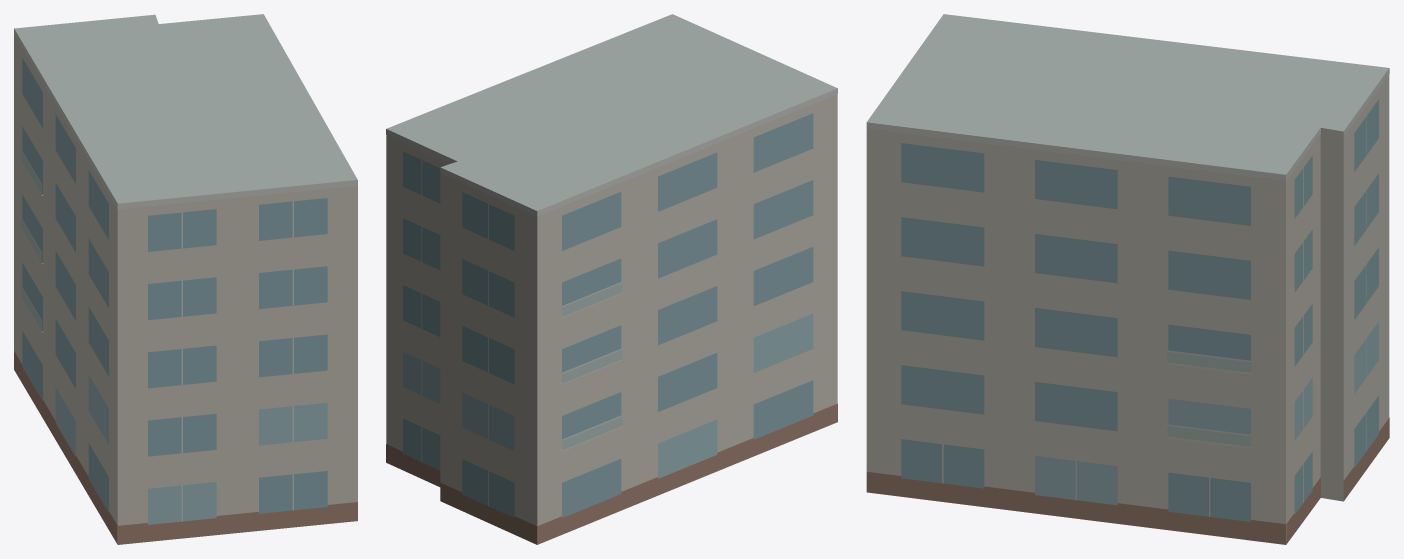
Rendered from survey-upis-32793700.glb.
3 renders of one model, left to right at view 1: azimuth 30°, elevation 25°; view 2: azimuth 150°, elevation 25°; view 3: azimuth 270°, elevation 25°, orthographic. The views are drawn at different scales.
Visible parts, largest first — view 1: survey-upis-32793700.tmp; view 2: survey-upis-32793700.tmp; view 3: survey-upis-32793700.tmp.
Part boxes in pixels (x1,y1,x2,y2): survey-upis-32793700.tmp: (14, 14, 357, 544); survey-upis-32793700.tmp: (386, 14, 837, 544); survey-upis-32793700.tmp: (866, 14, 1389, 544).
Bounding box in the file's own units: 13.33 × 14.3 × 18.32.
